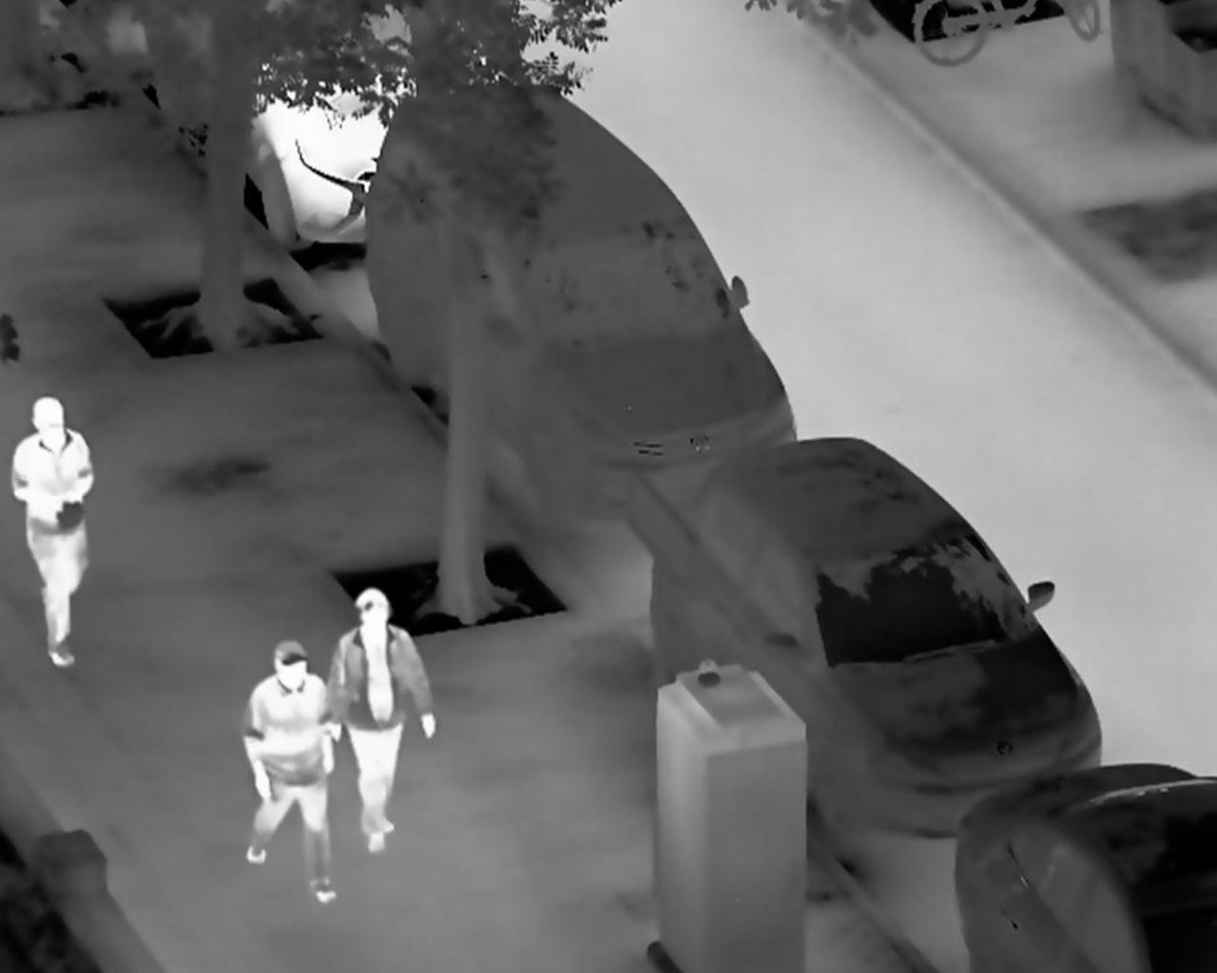person: (323, 587, 438, 853), (240, 637, 338, 909), (10, 394, 102, 671)
